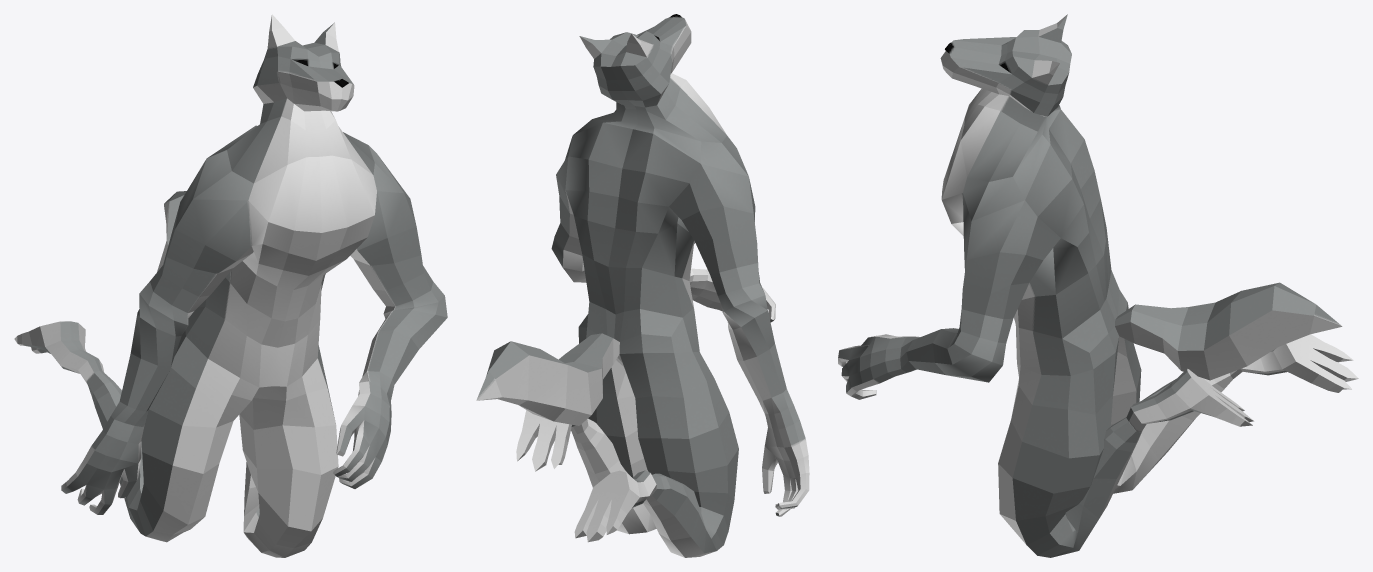
File: WolfDead(48).obj
The picture shows the model from 3 angles, left to right: view 1: azimuth 30°, elevation 25°; view 2: azimuth 150°, elevation 25°; view 3: azimuth 270°, elevation 25°; orthographic projection. The views are drawn at different scales.
Visible parts, largest first — view 1: Box001; view 2: Box001; view 3: Box001.
Boxes of the visible parts, x1=… form: Box001: x1=14, y1=14, x2=447, y2=557; Box001: x1=476, y1=14, x2=809, y2=557; Box001: x1=838, y1=14, x2=1358, y2=557.
Size of the model in its own units: 76.31 by 121 by 106.
